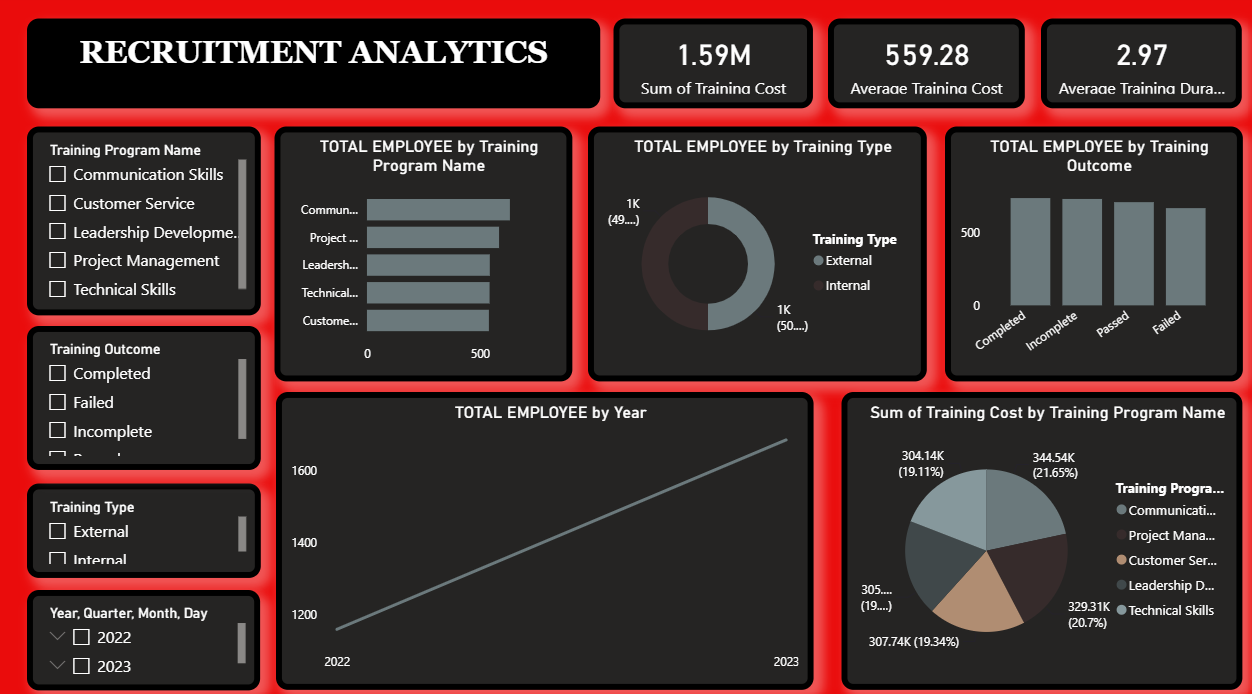

Layout of this report page (visuals, bound fields, positions):
{"tool":"powerbi","page":{"name":"Recruitment Analytics","canvas":[1280,720],"ordinal":2},"visuals":[{"type":"shape","box":[0,0,1279.5,719.2],"z":0},{"type":"textbox","box":[36.3,25.7,578.4,90.9],"z":1000},{"type":"slicer","fields":{"Values":["Cleaned_HR_Data_Analysis.Training Program Name"]},"box":[36.3,134.8,236.2,190.8],"z":2000},{"type":"slicer","fields":{"Values":["Cleaned_HR_Data_Analysis.Training Type"]},"box":[36.3,495.1,236.2,95.4],"z":3000},{"type":"slicer","fields":{"Values":["Cleaned_HR_Data_Analysis.Training Outcome"]},"box":[36.3,336.2,236.2,145.4],"z":4000},{"type":"card","fields":{"Values":["Sum(Cleaned_HR_Data_Analysis.Training Cost)"]},"box":[628.4,25.7,201.4,90.9],"z":5000},{"type":"card","fields":{"Values":["Avg(Cleaned_HR_Data_Analysis.Training Cost)"]},"box":[844.9,25.7,198.4,90.9],"z":6000},{"type":"card","fields":{"Values":["Avg(Cleaned_HR_Data_Analysis.Training Duration(Days))"]},"box":[1059.9,25.7,202.9,90.9],"z":7000},{"type":"slicer","fields":{"Values":["Cleaned_HR_Data_Analysis.Training Date.Variation.Date Hierarchy.Year","Cleaned_HR_Data_Analysis.Training Date.Variation.Date Hierarchy.Quarter","Cleaned_HR_Data_Analysis.Training Date.Variation.Date Hierarchy.Month","Cleaned_HR_Data_Analysis.Training Date.Variation.Date Hierarchy.Day"]},"box":[36.5,602.4,235.6,101.2],"z":8000},{"type":"barChart","fields":{"Category":["Cleaned_HR_Data_Analysis.Training Program Name"],"Y":["Cleaned_HR_Data_Analysis.TOTAL EMPLOYEE"]},"box":[285.4,134.4,300.4,257.2],"z":9000},{"type":"donutChart","fields":{"Y":["Cleaned_HR_Data_Analysis.TOTAL EMPLOYEE"],"Category":["Cleaned_HR_Data_Analysis.Training Type"]},"box":[602.4,134.4,341.9,257.2],"z":10000},{"type":"columnChart","fields":{"Y":["Cleaned_HR_Data_Analysis.TOTAL EMPLOYEE"],"Category":["Cleaned_HR_Data_Analysis.Training Outcome"]},"box":[962.5,134.4,300.4,257.2],"z":11000},{"type":"lineChart","fields":{"Category":["Cleaned_HR_Data_Analysis.Training Date.Variation.Date Hierarchy.Year","Cleaned_HR_Data_Analysis.Training Date.Variation.Date Hierarchy.Quarter","Cleaned_HR_Data_Analysis.Training Date.Variation.Date Hierarchy.Month","Cleaned_HR_Data_Analysis.Training Date.Variation.Date Hierarchy.Day"],"Y":["Cleaned_HR_Data_Analysis.TOTAL EMPLOYEE"]},"box":[287.1,403.3,542.6,300.4],"z":12000},{"type":"pieChart","fields":{"Y":["Sum(Cleaned_HR_Data_Analysis.Training Cost)"],"Category":["Cleaned_HR_Data_Analysis.Training Program Name"]},"box":[857.9,403.3,404.9,300.4],"z":13000}]}

Visuals, with their boxes in screenshot pixels (x1, y1, x2, y2), scaled from the page's 1280x720 canvas onto the 1252x694 screenshot:
shape: bbox=[0, 0, 1251, 693]
textbox: bbox=[36, 25, 601, 112]
slicer - Cleaned_HR_Data_Analysis.Training Program Name: bbox=[36, 130, 267, 314]
slicer - Cleaned_HR_Data_Analysis.Training Type: bbox=[36, 477, 267, 569]
slicer - Cleaned_HR_Data_Analysis.Training Outcome: bbox=[36, 324, 267, 464]
card - Sum(Cleaned_HR_Data_Analysis.Training Cost): bbox=[615, 25, 812, 112]
card - Avg(Cleaned_HR_Data_Analysis.Training Cost): bbox=[826, 25, 1020, 112]
card - Avg(Cleaned_HR_Data_Analysis.Training Duration(Days)): bbox=[1037, 25, 1235, 112]
slicer - Cleaned_HR_Data_Analysis.Training Date.Variation.Date Hierarchy.Year x Cleaned_HR_Data_Analysis.Training Date.Variation.Date Hierarchy.Quarter: bbox=[36, 581, 266, 678]
barChart - Cleaned_HR_Data_Analysis.Training Program Name x Cleaned_HR_Data_Analysis.TOTAL EMPLOYEE: bbox=[279, 130, 573, 377]
donutChart - Cleaned_HR_Data_Analysis.TOTAL EMPLOYEE x Cleaned_HR_Data_Analysis.Training Type: bbox=[589, 130, 924, 377]
columnChart - Cleaned_HR_Data_Analysis.TOTAL EMPLOYEE x Cleaned_HR_Data_Analysis.Training Outcome: bbox=[941, 130, 1235, 377]
lineChart - Cleaned_HR_Data_Analysis.Training Date.Variation.Date Hierarchy.Year x Cleaned_HR_Data_Analysis.Training Date.Variation.Date Hierarchy.Quarter: bbox=[281, 389, 812, 678]
pieChart - Sum(Cleaned_HR_Data_Analysis.Training Cost) x Cleaned_HR_Data_Analysis.Training Program Name: bbox=[839, 389, 1235, 678]
